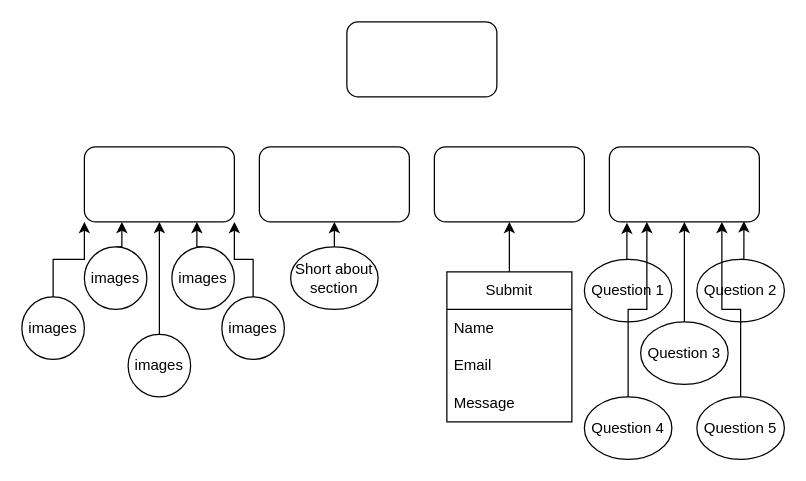
Some shapes in this 806 by 481 pixel diagram are drawn without their labels. Here are the shapes that lost their labels. From the top down, the centre of each, then its label:
At point 421,59: "Home".
At point 158,184: "Gallery".
At point 333,184: "About".
At point 508,184: "Contact".
At point 683,184: "FAQ".
